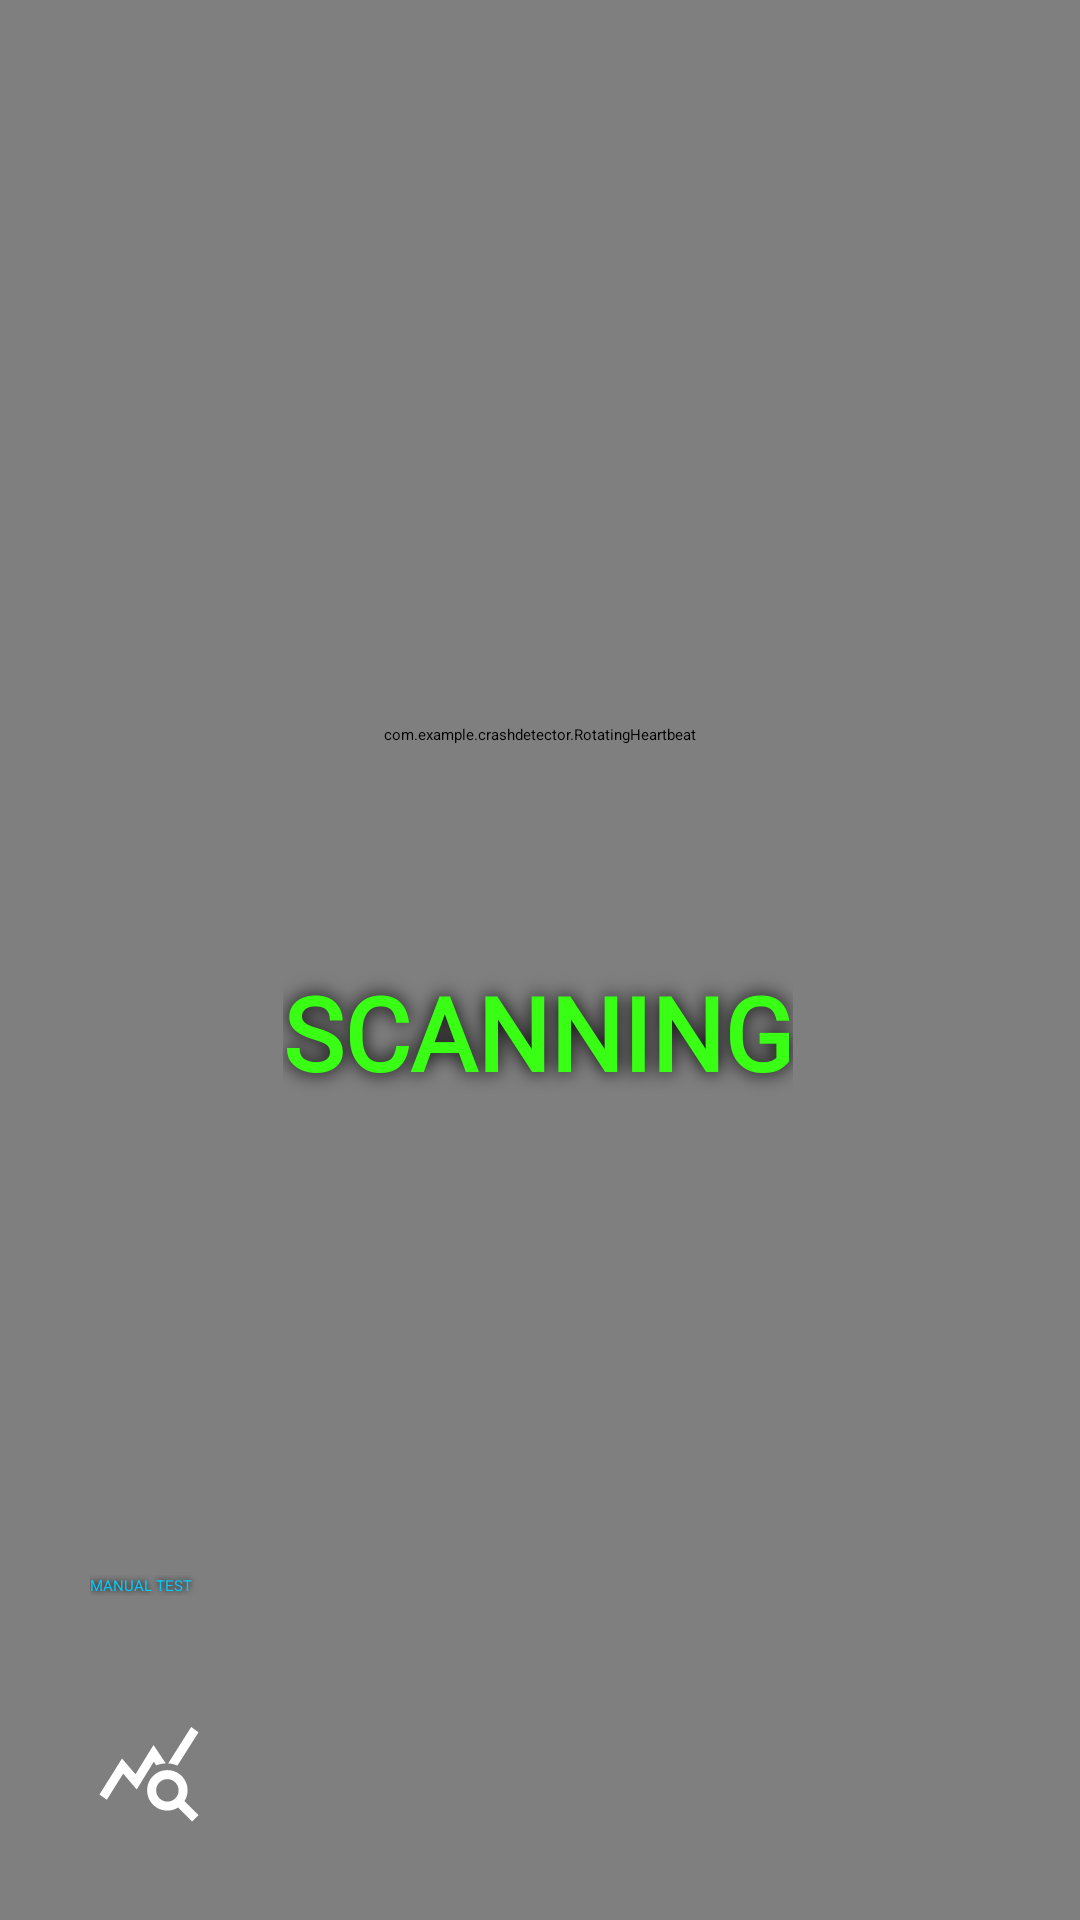

Named icons in this screenshot (1080*1920) and their centers, (x=x, y=y):
Statistics: (x=149, y=1774)
